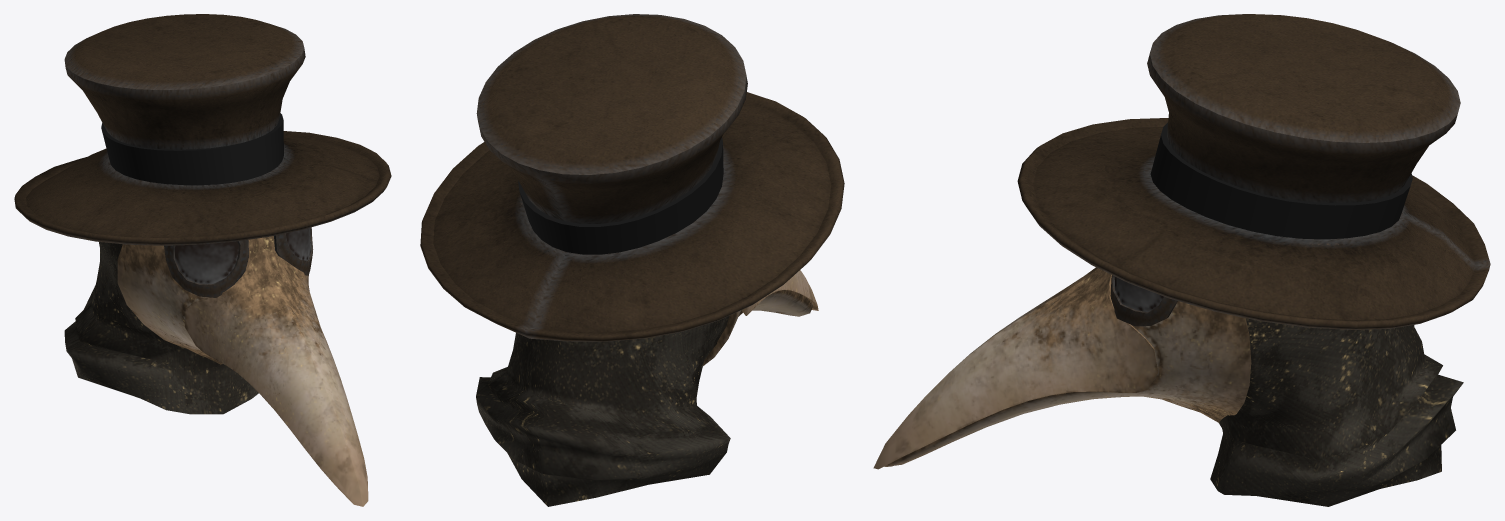
File: PlagueMask_LODG.fbx
3 renders of one model, left to right at view 1: azimuth 30°, elevation 25°; view 2: azimuth 150°, elevation 25°; view 3: azimuth 270°, elevation 25°, orthographic. The views are drawn at different scales.
Visible parts, largest first — view 1: Hat_LOD0, PlagueMask_LOD0, Hood_LOD0; view 2: Hat_LOD0, Hood_LOD0, PlagueMask_LOD0; view 3: Hat_LOD0, Hood_LOD0, PlagueMask_LOD0.
Part boxes in pixels (bbox=[...]): Hat_LOD0: bbox=[14, 14, 391, 245]; PlagueMask_LOD0: bbox=[117, 227, 368, 506]; Hood_LOD0: bbox=[64, 242, 258, 414]; Hat_LOD0: bbox=[420, 14, 844, 341]; Hood_LOD0: bbox=[476, 316, 730, 506]; PlagueMask_LOD0: bbox=[703, 270, 818, 365]; Hat_LOD0: bbox=[1017, 14, 1490, 329]; Hood_LOD0: bbox=[1210, 318, 1463, 506]; PlagueMask_LOD0: bbox=[873, 267, 1251, 469].
Size of what is drawn, in the model's own units: 41.01 by 43.74 by 56.69.
